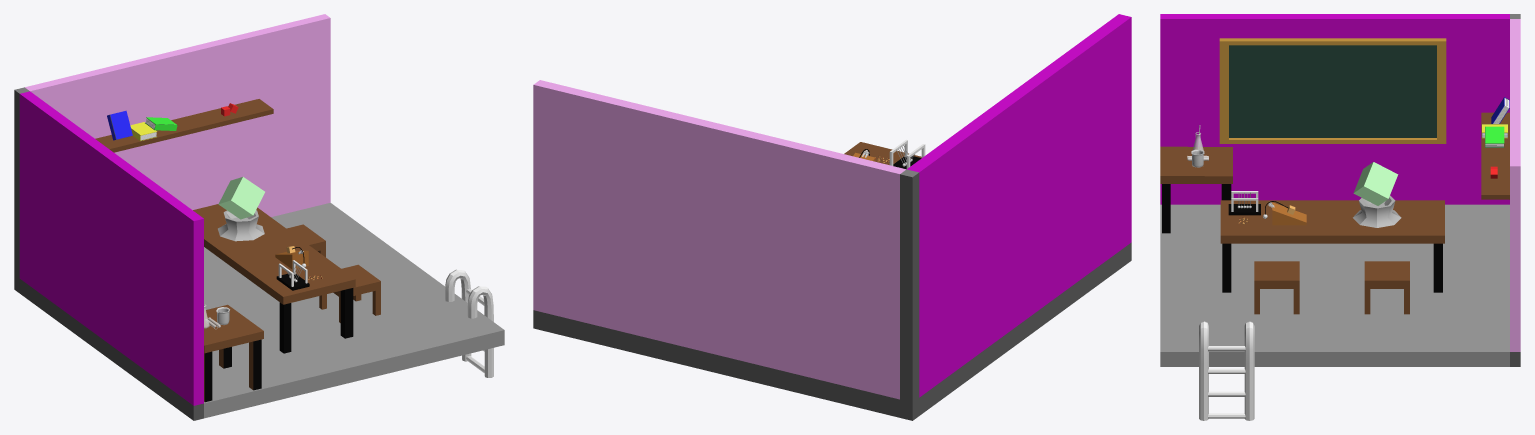
The model's file is Habitacion1.glb.
The picture shows the model from 3 angles, left to right: view 1: azimuth 30°, elevation 25°; view 2: azimuth 150°, elevation 25°; view 3: azimuth 270°, elevation 25°; orthographic projection. The views are drawn at different scales.
Parts seen in each view (by area): view 1: pCube1, pCube3, pCube10, pCube12, pCube18, pCube4, pCylinder17, pCylinder29, pCylinder30, pCube11, pCube21, pCube5; view 2: pCube1, pCube3; view 3: pCube1, pCube2, pCube3, pCube10, pCube12, pCube4, pCube5, pCube18, pCylinder30, pCylinder17, pCylinder29, pCube6 (+2 smaller).
Part boxes in pixels (left/top/right/bottom): pCube1: left=14, top=14, right=504, bottom=420; pCube3: left=193, top=204, right=355, bottom=353; pCube10: left=204, top=304, right=263, bottom=402; pCube12: left=95, top=99, right=273, bottom=152; pCube18: left=218, top=177, right=264, bottom=219; pCube4: left=319, top=264, right=380, bottom=322; pCylinder17: left=218, top=210, right=264, bottom=241; pCylinder29: left=467, top=286, right=493, bottom=377; pCylinder30: left=445, top=269, right=471, bottom=361; pCube11: left=276, top=260, right=309, bottom=290; pCube21: left=107, top=110, right=132, bottom=140; pCube5: left=286, top=224, right=325, bottom=257; pCube1: left=533, top=14, right=1131, bottom=420; pCube3: left=844, top=142, right=921, bottom=164; pCube1: left=1160, top=14, right=1520, bottom=366; pCube2: left=1219, top=38, right=1446, bottom=143; pCube3: left=1220, top=200, right=1444, bottom=292; pCube10: left=1160, top=146, right=1232, bottom=233; pCube12: left=1481, top=112, right=1509, bottom=199; pCube4: left=1254, top=261, right=1299, bottom=314; pCube5: left=1364, top=261, right=1409, bottom=314; pCube18: left=1353, top=162, right=1398, bottom=205; pCylinder30: left=1244, top=321, right=1254, bottom=420; pCylinder17: left=1353, top=195, right=1401, bottom=227; pCylinder29: left=1199, top=321, right=1208, bottom=420; pCube6: left=1272, top=202, right=1306, bottom=225.
Bounding box in the file's own units: 0.082 × 0.0605 × 0.0793.
